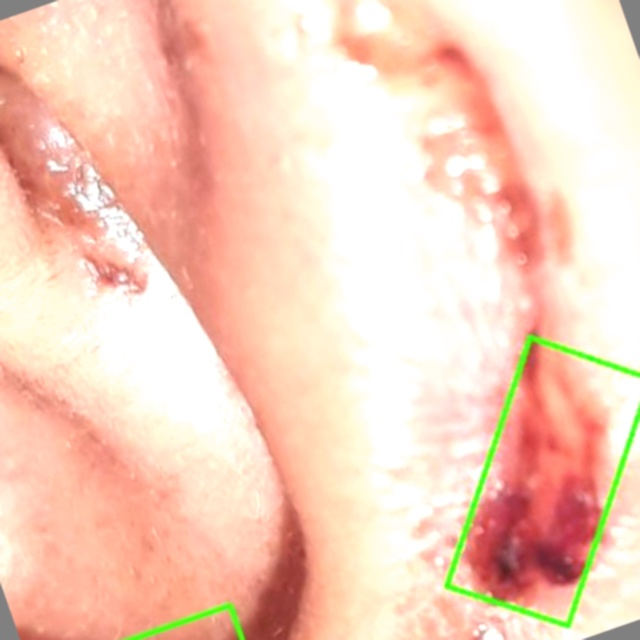Eczema: (448, 338, 639, 626)
